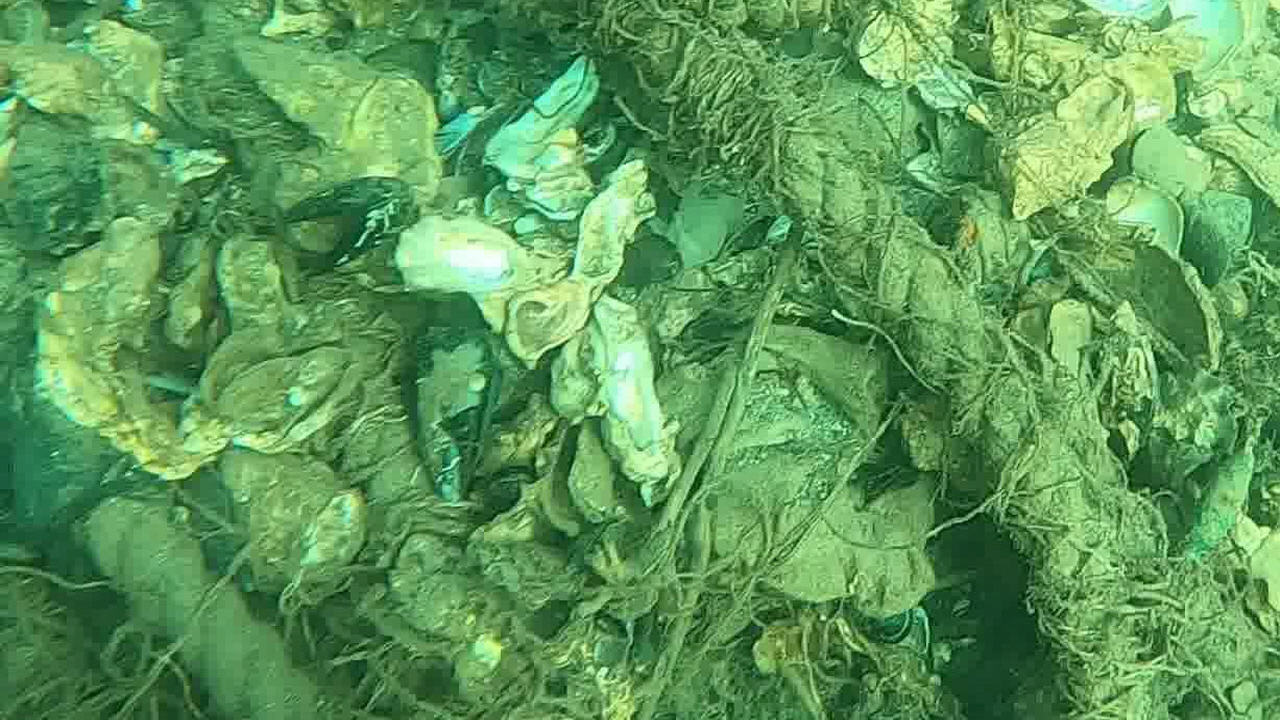rope: (611, 0, 1159, 720), (87, 501, 341, 720)
